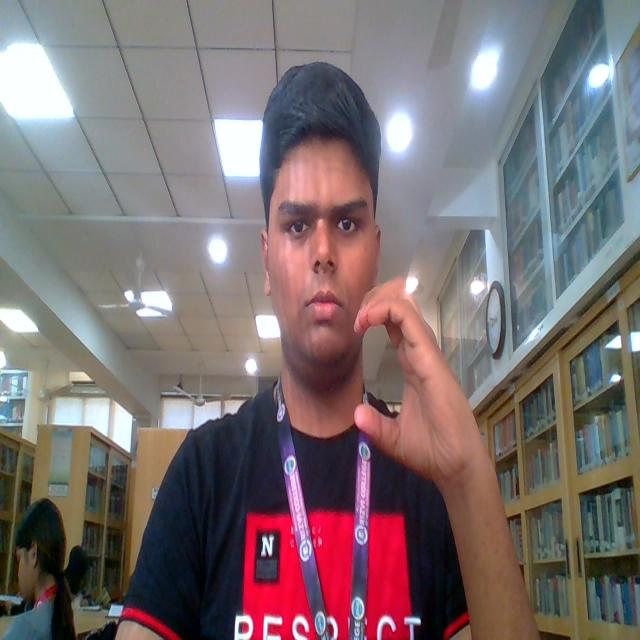NO: (331, 256, 505, 546)
